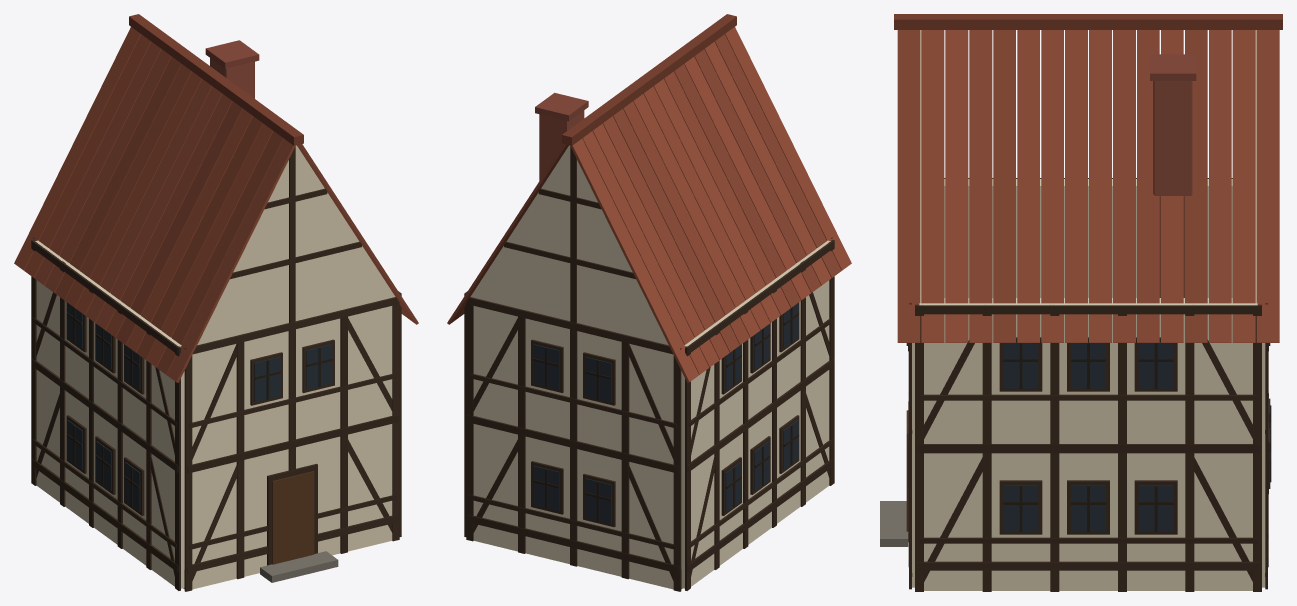
File: house_2.glb
3 views of the same model, side by side, from view 1: azimuth 30°, elevation 25°; view 2: azimuth 150°, elevation 25°; view 3: azimuth 270°, elevation 25° (orthographic). The views are drawn at different scales.
Visible parts, largest first — view 1: house2_plaster, house2_tiles, house2_wood, house2_glass, house2_brick, house2_stone; view 2: house2_plaster, house2_tiles, house2_wood, house2_glass, house2_brick; view 3: house2_tiles, house2_plaster, house2_wood, house2_glass, house2_brick, house2_stone.
Part boxes in pixels (x1,y1,x2,y2): house2_plaster: (35, 145, 395, 589); house2_tiles: (14, 14, 418, 382); house2_wood: (31, 146, 401, 591); house2_glass: (67, 303, 332, 511); house2_brick: (205, 40, 259, 98); house2_stone: (183, 551, 338, 588); house2_plaster: (470, 145, 830, 589); house2_tiles: (447, 14, 851, 382); house2_wood: (464, 146, 834, 591); house2_glass: (533, 303, 798, 523); house2_brick: (535, 92, 588, 180); house2_tiles: (894, 14, 1282, 342); house2_plaster: (912, 30, 1265, 590); house2_wood: (906, 178, 1271, 591); house2_glass: (906, 342, 1270, 531); house2_brick: (1150, 54, 1196, 297); house2_stone: (880, 501, 908, 546).
Size of the model in its own units: 5.85 by 10.04 by 7.15.
